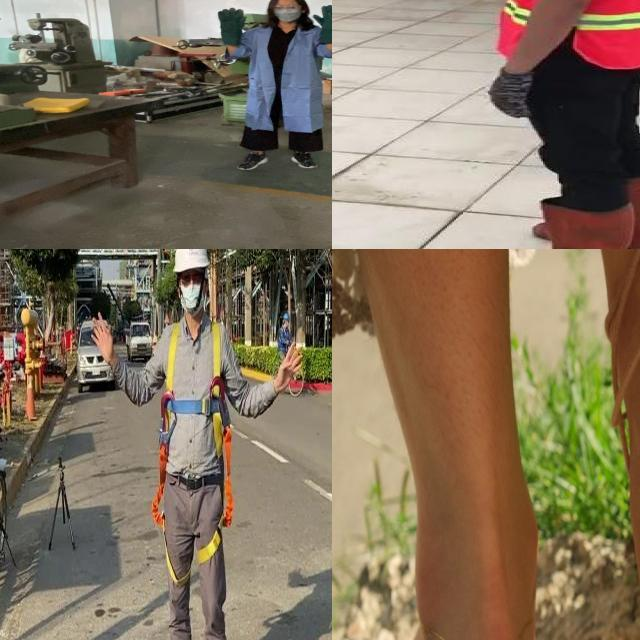Harness: (152, 323, 235, 564)
boots: (489, 197, 635, 249)
face_mask: (272, 2, 304, 21)
glasses: (271, 3, 303, 11)
hand_glove: (485, 68, 544, 119), (216, 6, 250, 34), (308, 4, 332, 30)
head_nohelmet: (267, 0, 306, 3)
person: (473, 0, 640, 249), (212, 0, 332, 175)
shoes: (235, 151, 270, 174), (285, 148, 318, 170)
vest: (484, 0, 640, 70)
